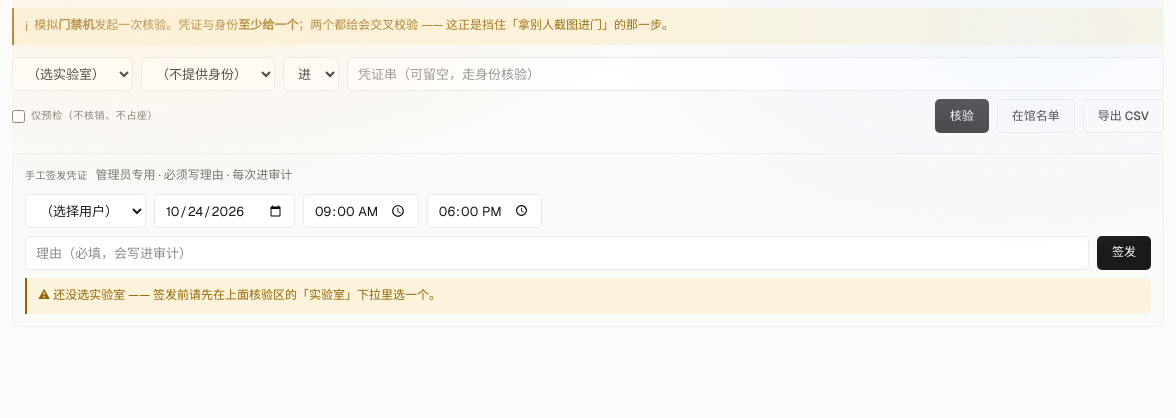
Scenario: GateSimPane › 凭证与身份都不给就不发请求
Select "光谱实验室" in the dropdown named "实验室": (72, 74) [12,57,133,91]
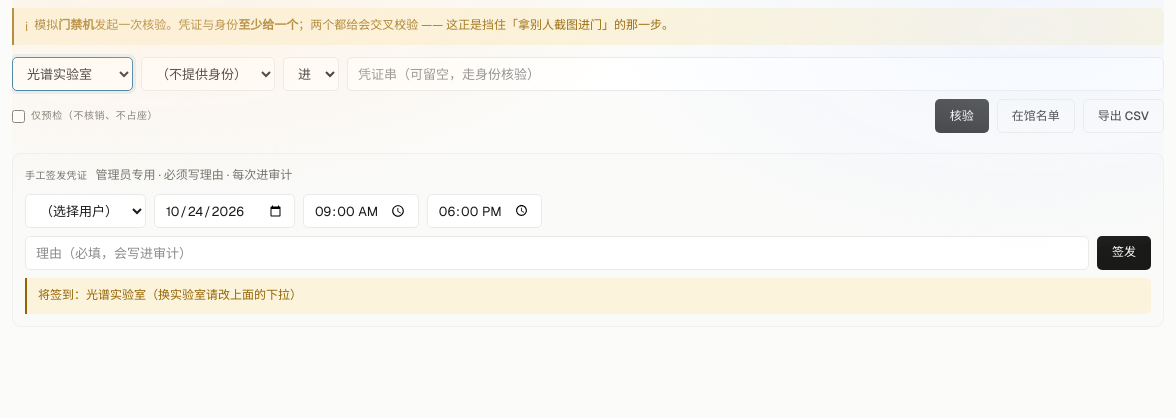
Click the button "核验": click(962, 116) [935,99,989,133]
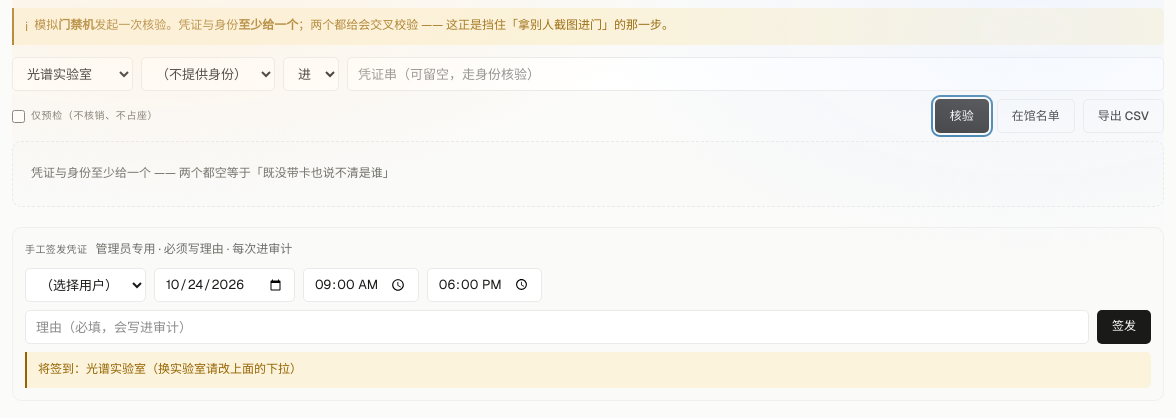
Now the text "凭证与身份至少给一个 —— 两个都空等于「既没带卡也说不清是谁」" is shown, box [12,141,1164,207]
